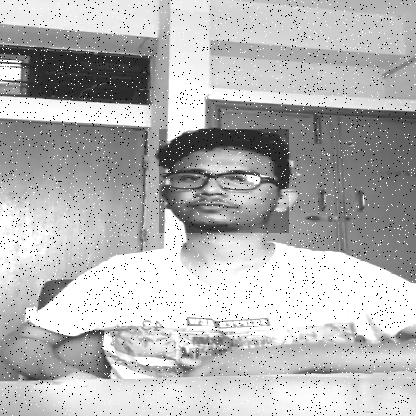Normal: (159, 130, 289, 233)
